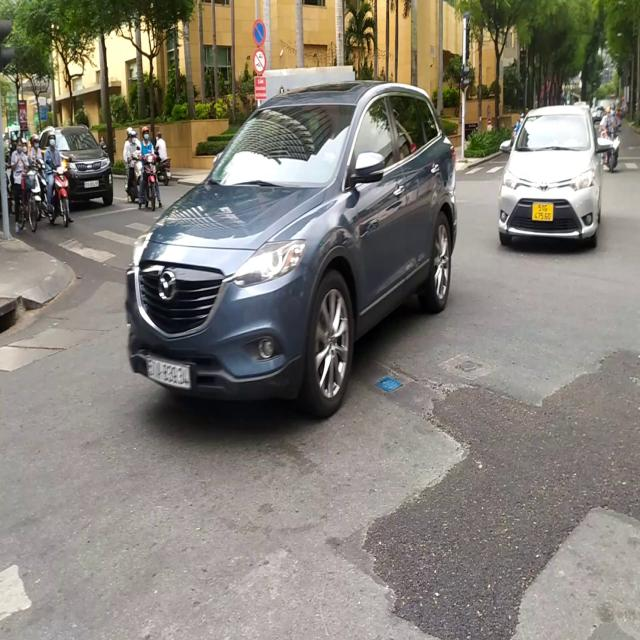bien_trang: (141, 351, 195, 393)
bien_vang: (532, 202, 554, 225)
